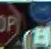Stop: (0, 3, 26, 45)
